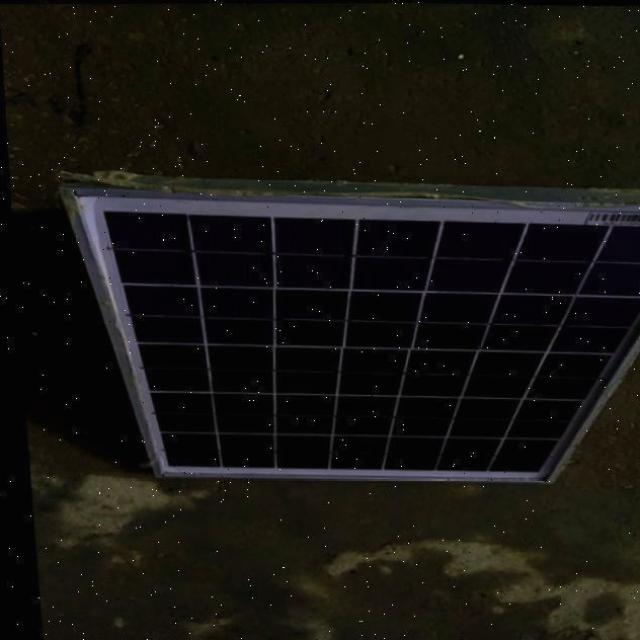Normal Solar Panel: (53, 158, 640, 488)
